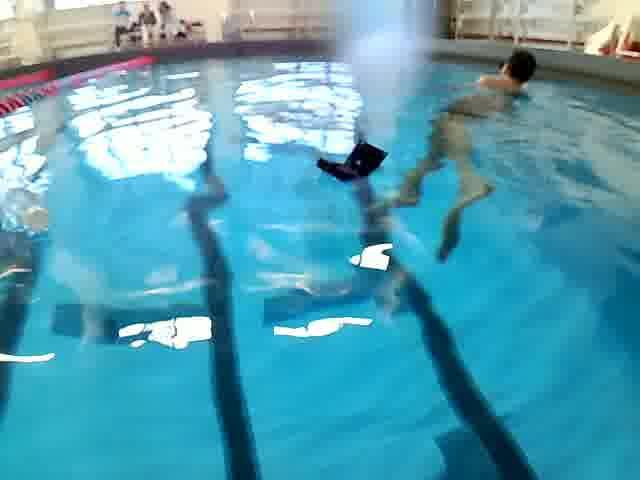CamMount: (310, 131, 390, 188)
